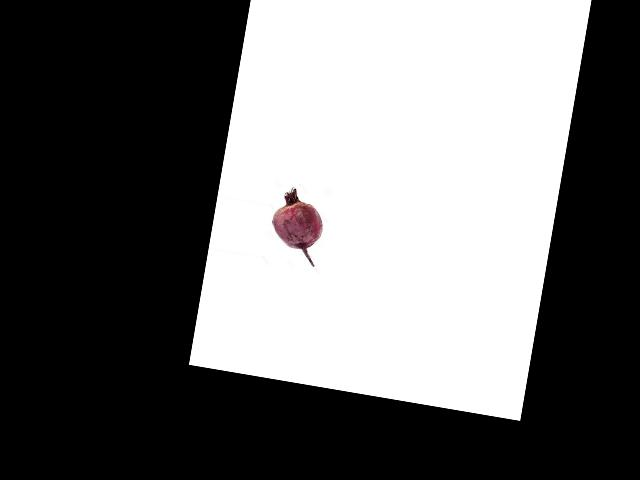beet: (267, 185, 328, 266)
